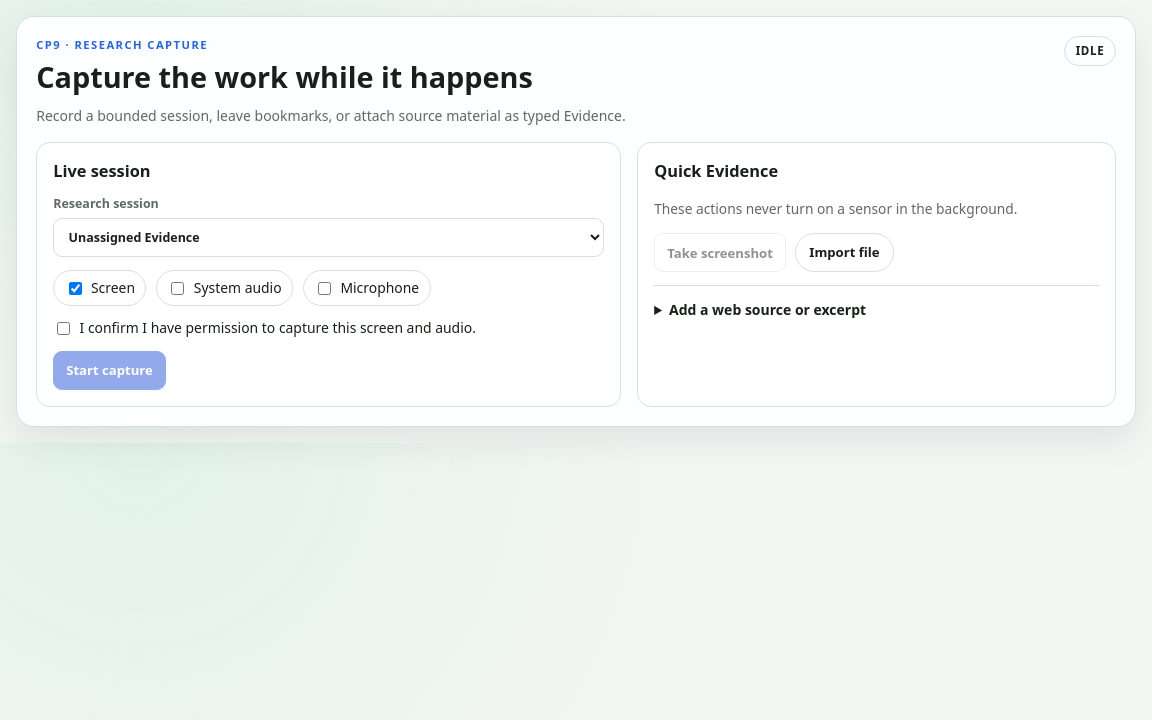
Test case: CP9 capture consent boundary › does not open an audio sensor if no supported recording container exists
Step 1. Click the checkbox labelled "Screen" → (75, 288), box [69,282,82,295]
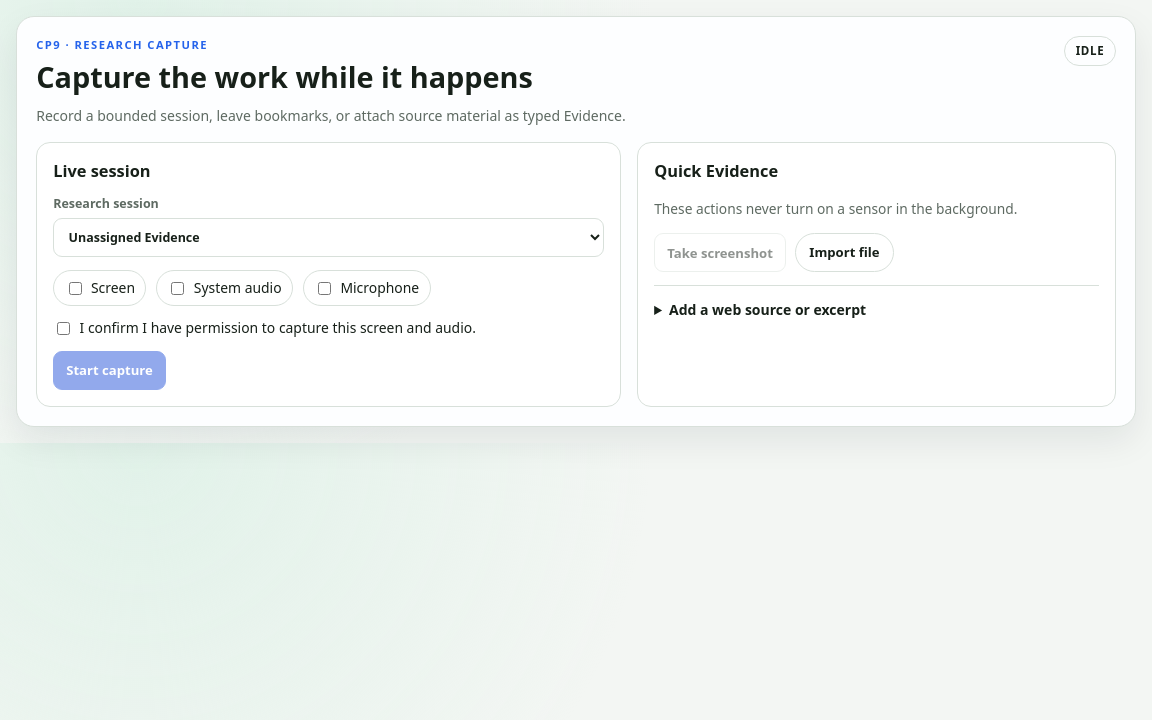
Step 2. Click the checkbox labelled "Microphone" → (324, 288), box [318,282,331,295]
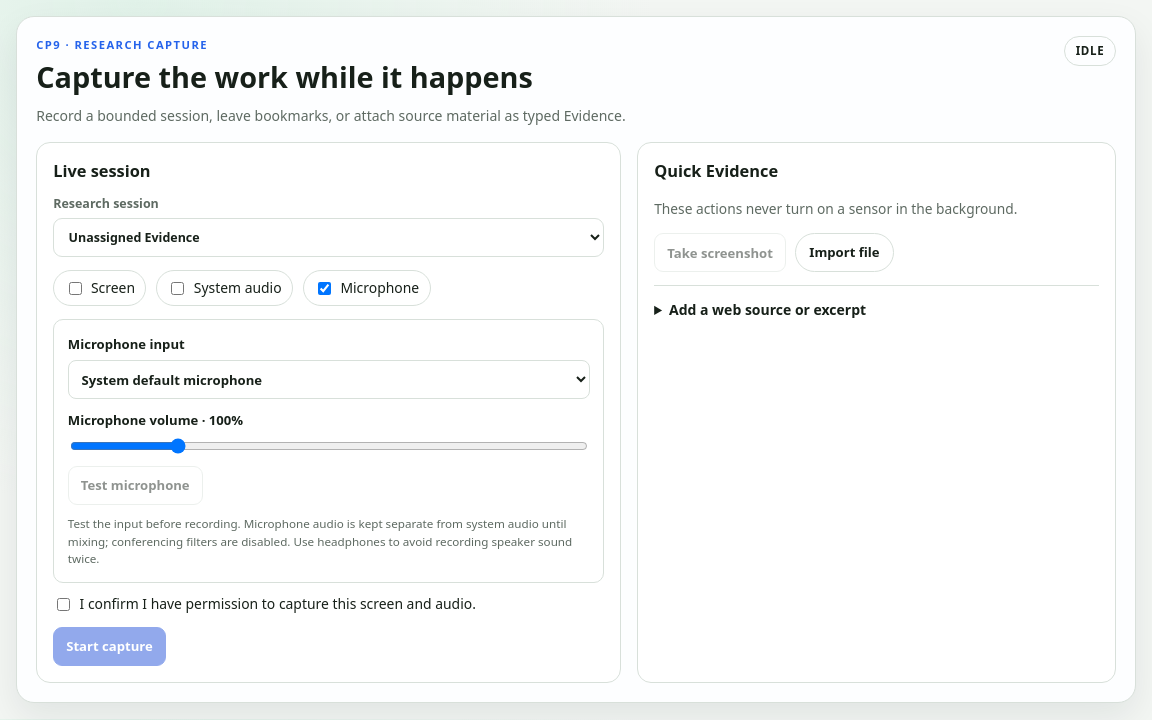
Step 3. Click the checkbox labelled "I confirm I have permission to capture this screen and audio." → (64, 605), box [57,598,70,611]
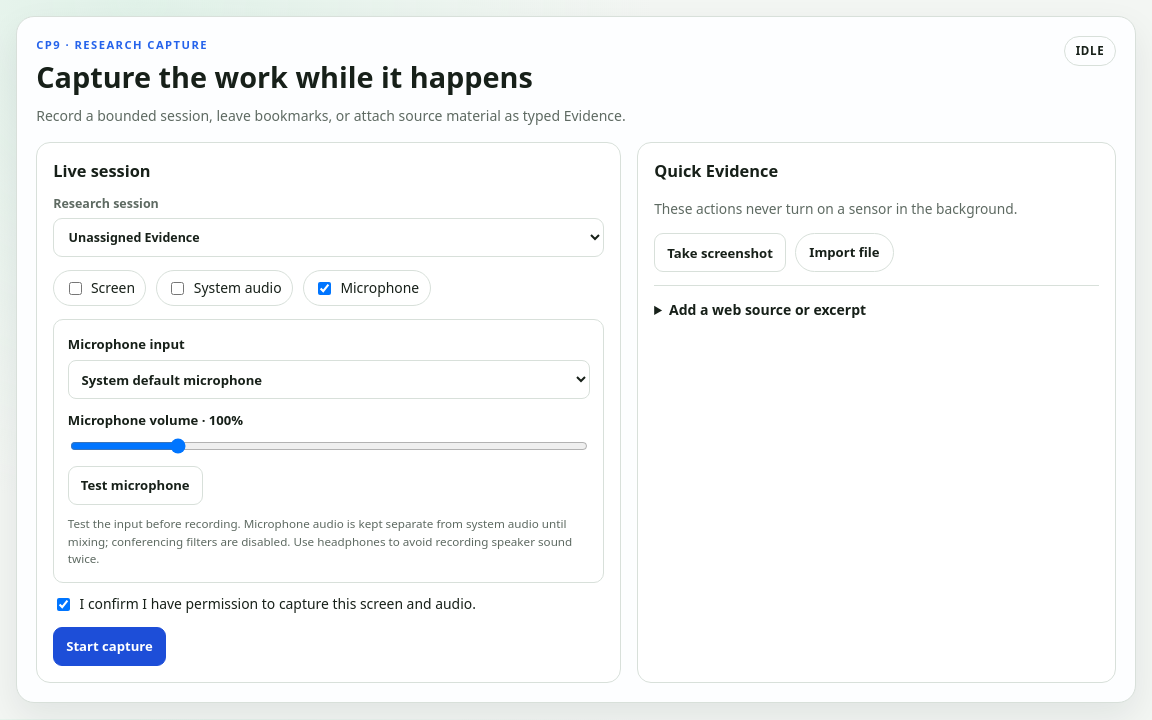
Step 4. Click the button "Start capture" → (110, 647), box [53,627,166,666]
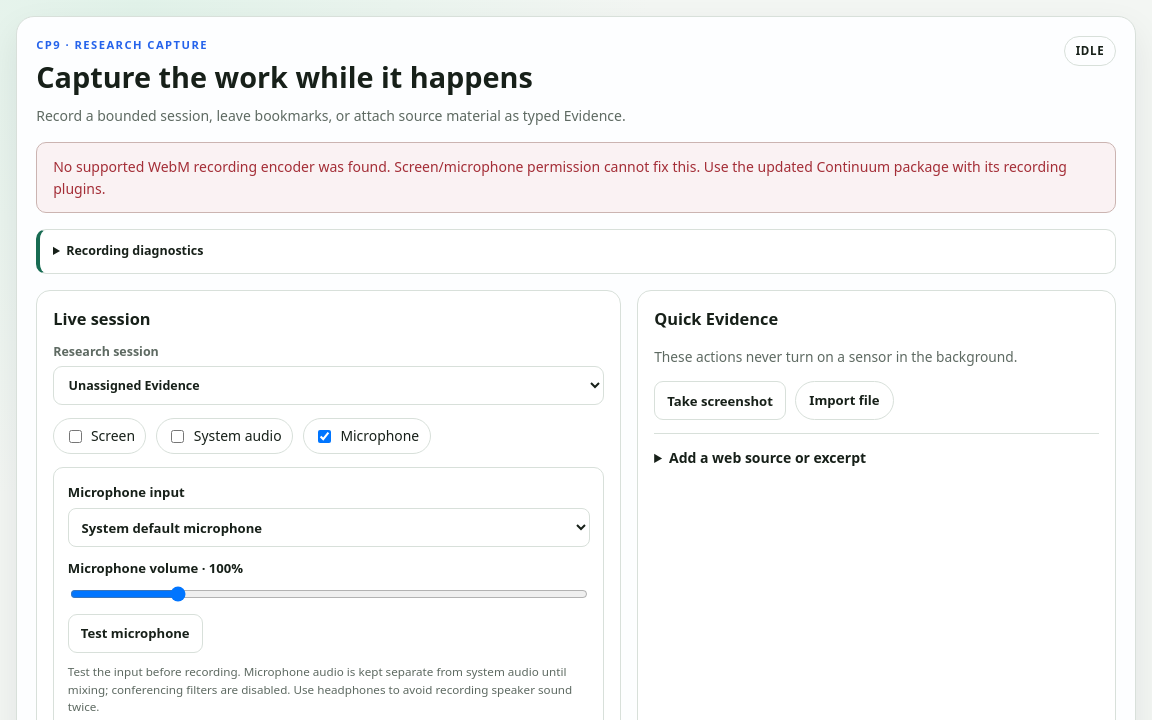
Now the text "No supported WebM recording encoder" is shown, box [53,157,1067,198]
